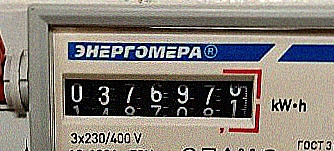0: (69, 80, 83, 102)
1: (227, 96, 239, 116)
3: (96, 83, 111, 105)
6: (148, 79, 163, 102)
7: (121, 80, 136, 103), (202, 81, 216, 105)
9: (174, 81, 189, 104)
screen: (53, 62, 264, 136)
